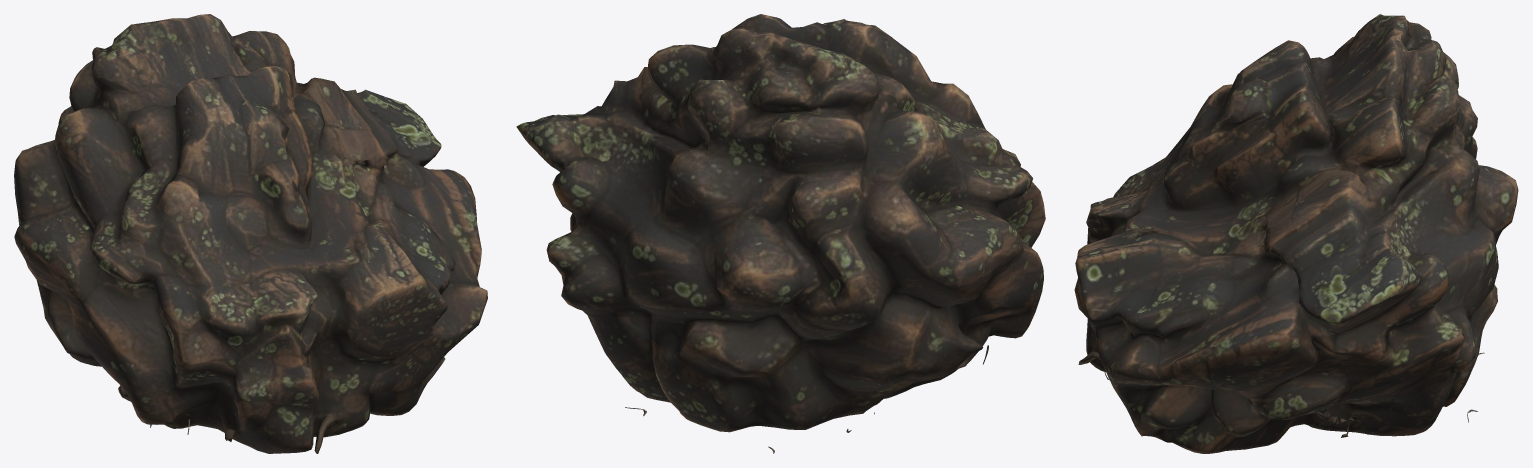
File: Rock_5.fbx
The picture shows the model from 3 angles, left to right: view 1: azimuth 30°, elevation 25°; view 2: azimuth 150°, elevation 25°; view 3: azimuth 270°, elevation 25°; orthographic projection. The views are drawn at different scales.
Visible parts, largest first — view 1: tripo_node_da09ffe1; view 2: tripo_node_da09ffe1; view 3: tripo_node_da09ffe1.
Part boxes in pixels (bbox=[...]): tripo_node_da09ffe1: bbox=[14, 14, 487, 453]; tripo_node_da09ffe1: bbox=[516, 14, 1045, 453]; tripo_node_da09ffe1: bbox=[1074, 14, 1518, 453].
Size of the model in its own units: 99.44 by 80.32 by 91.2.
Materials: 1 (1 with a texture image).
